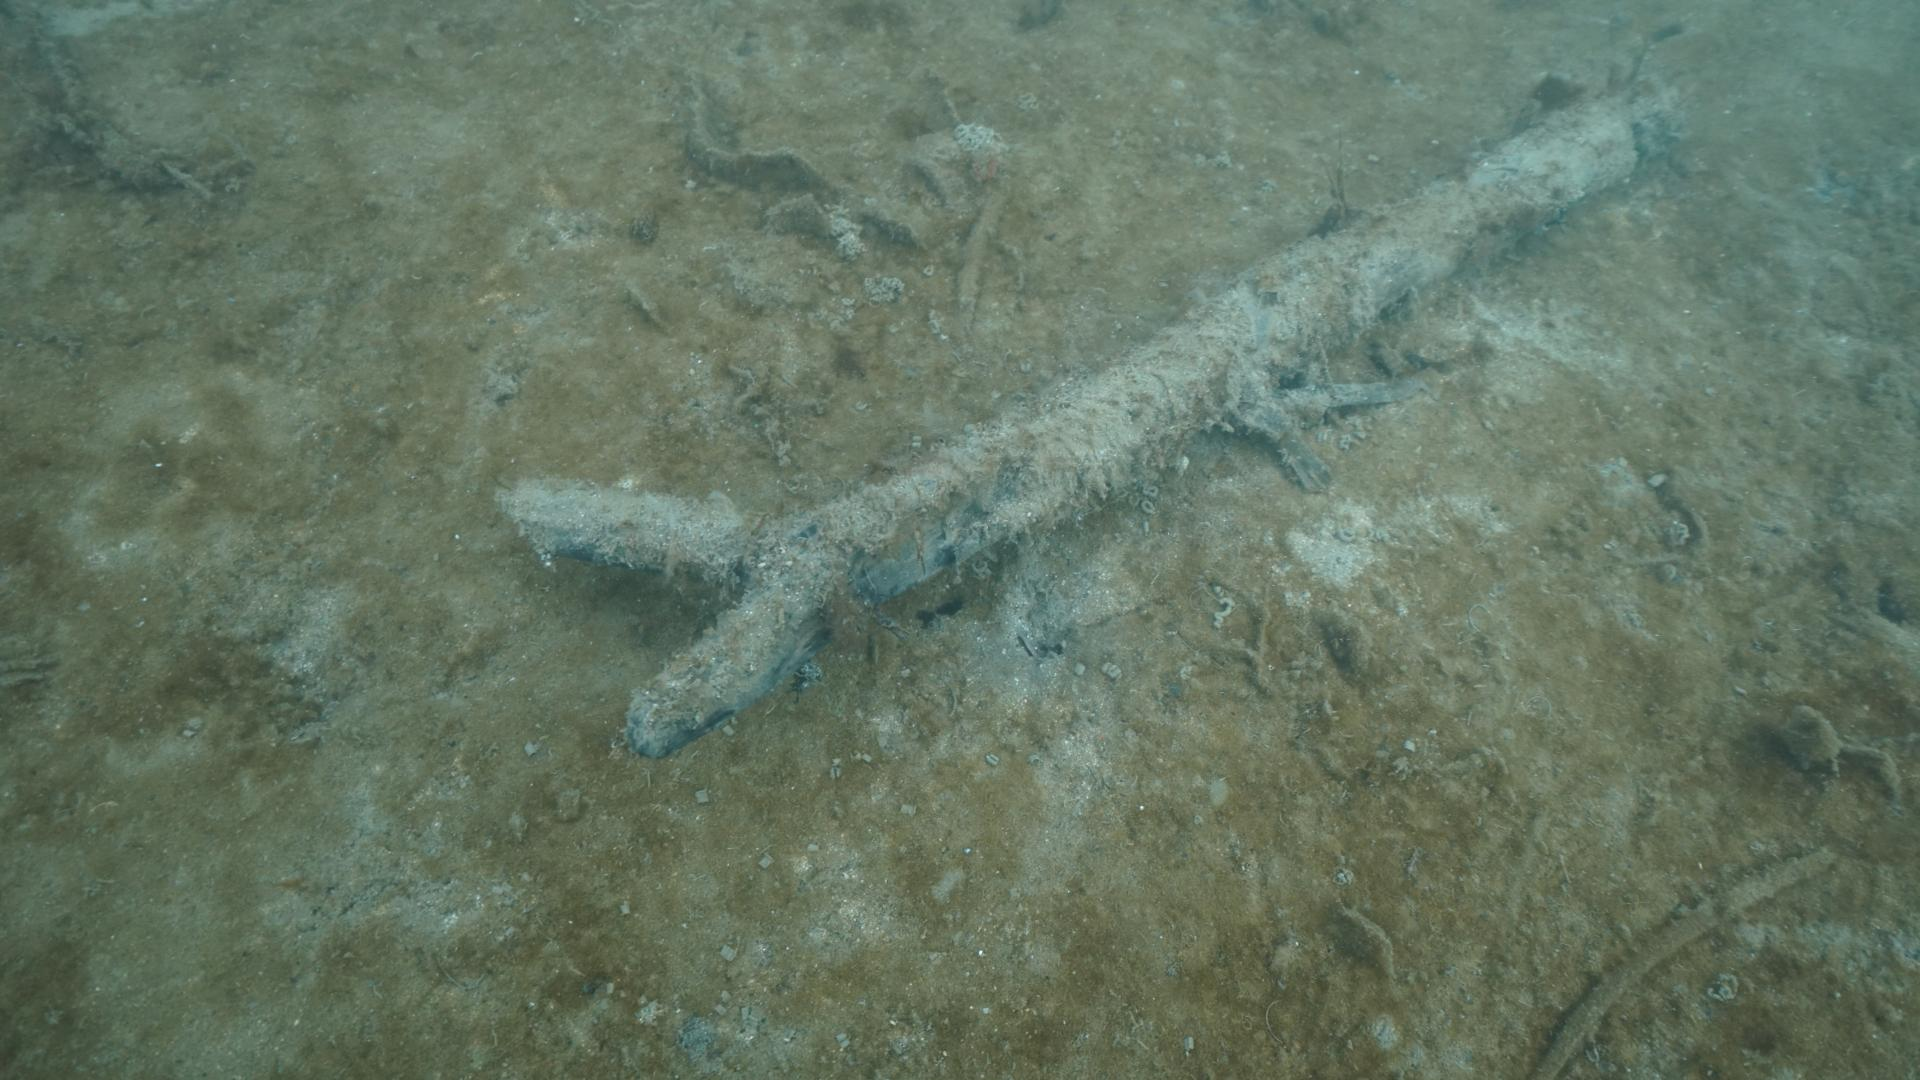wood: (498, 76, 1680, 760)
